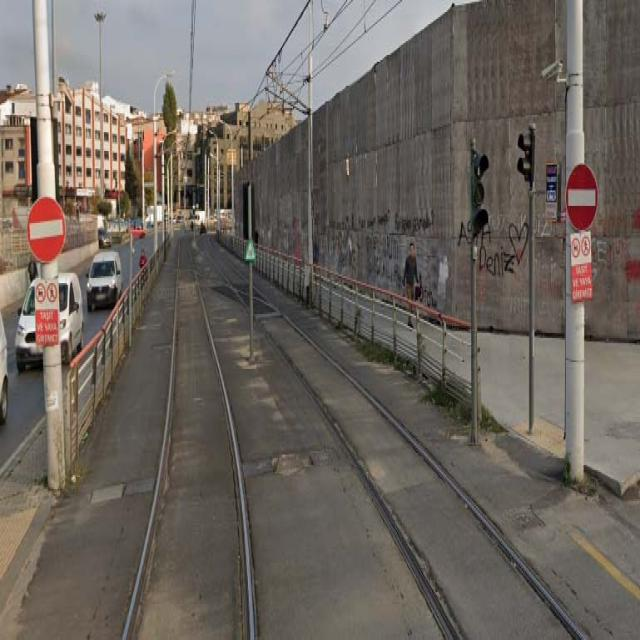girisyok: (27, 197, 65, 261), (566, 163, 597, 230)
